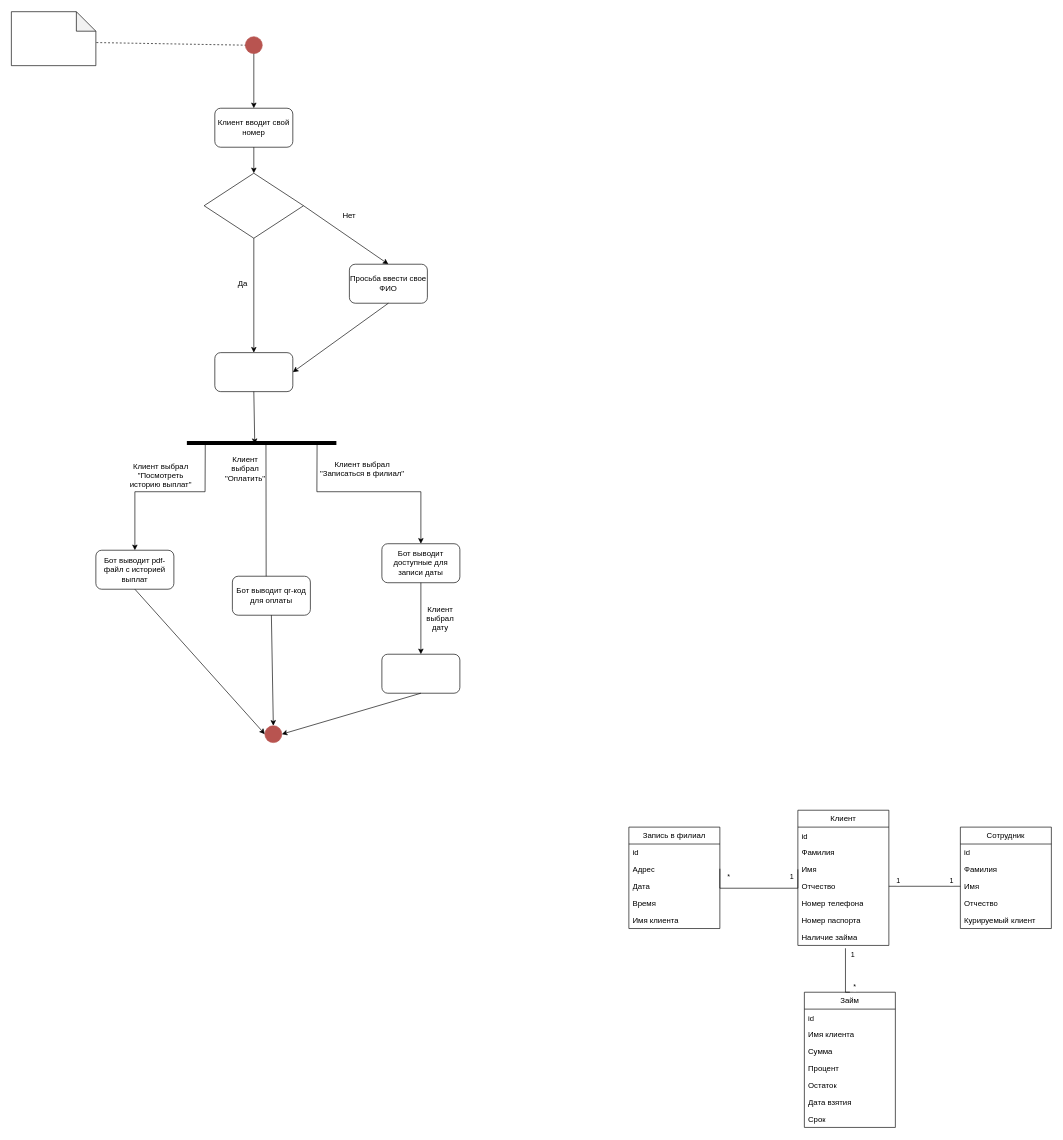
Image size: 1063x1140. Some labels were removed from this diagram. The shapes that lost their labels are listed below. From the top down, each one's centre as x and y in pixels, then its label:
At (x=53, y=38): "Клиент зашел в бота".
At (x=253, y=205): "Номер уже есть в базе данных?".
At (x=253, y=372): "Бот выводит 3 кнопки функций".
At (x=420, y=673): "Бот выводит доступные время в выбранную дату".
